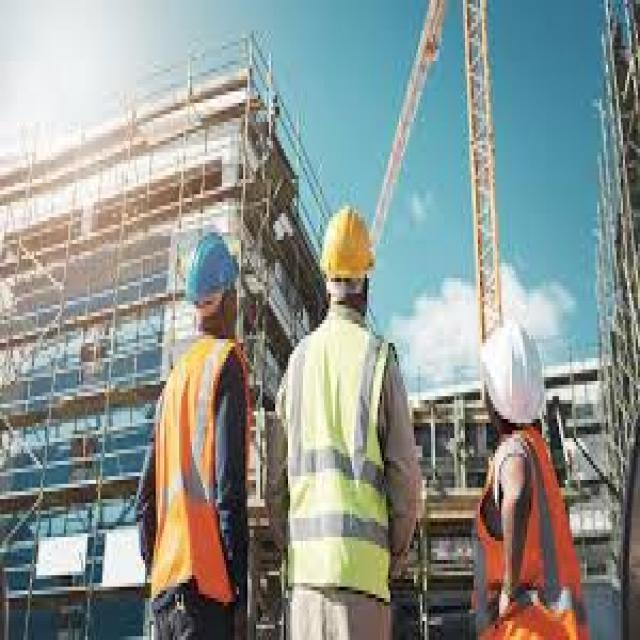reflective_jacket: (275, 312, 405, 613), (141, 331, 256, 617), (471, 425, 584, 639)
safety_helmet: (471, 308, 554, 434), (311, 194, 383, 297), (174, 217, 245, 316)
